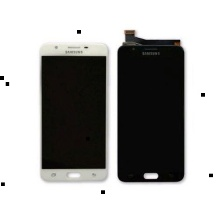phone: (36, 36, 108, 184), (113, 40, 185, 187)
